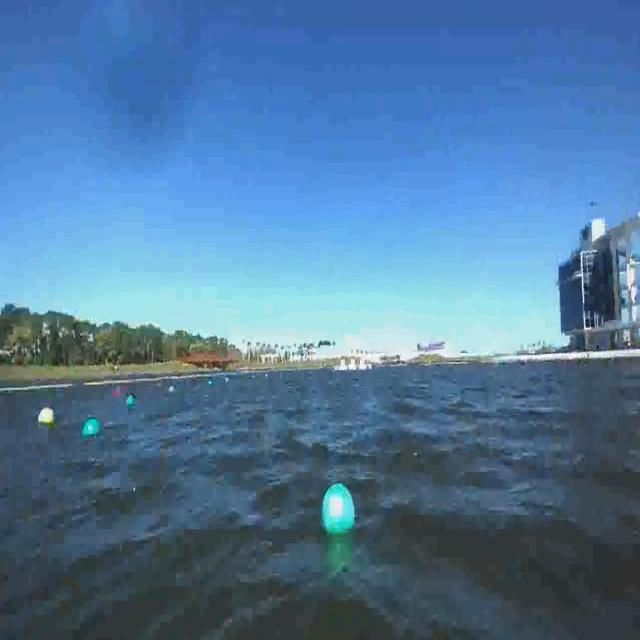green-buoy: (320, 482, 356, 538), (83, 420, 101, 438), (126, 390, 134, 406)
yellow-buoy: (37, 408, 54, 426)
